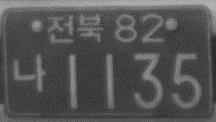1: (65, 52, 79, 112), (103, 52, 116, 111)
2: (139, 11, 165, 43)
3: (133, 53, 164, 110)
5: (171, 53, 203, 110)
8: (115, 12, 138, 42)
나: (13, 52, 47, 94)
전북_O: (47, 13, 104, 45)
